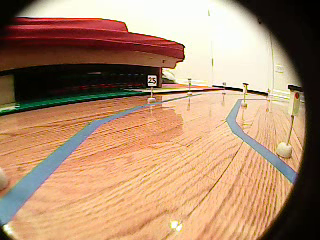Red Traffic Light: (288, 84, 303, 120)
Speed Limit 25: (146, 73, 158, 87)
